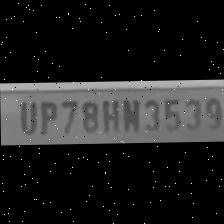3: (180, 95, 202, 131), (141, 96, 161, 132)
5: (158, 94, 182, 130)
7: (57, 97, 77, 135)
8: (76, 96, 100, 132)
9: (200, 94, 222, 131)
H: (98, 96, 120, 134)
N: (119, 96, 142, 134)
P: (36, 97, 58, 135)
U: (13, 98, 37, 135)
